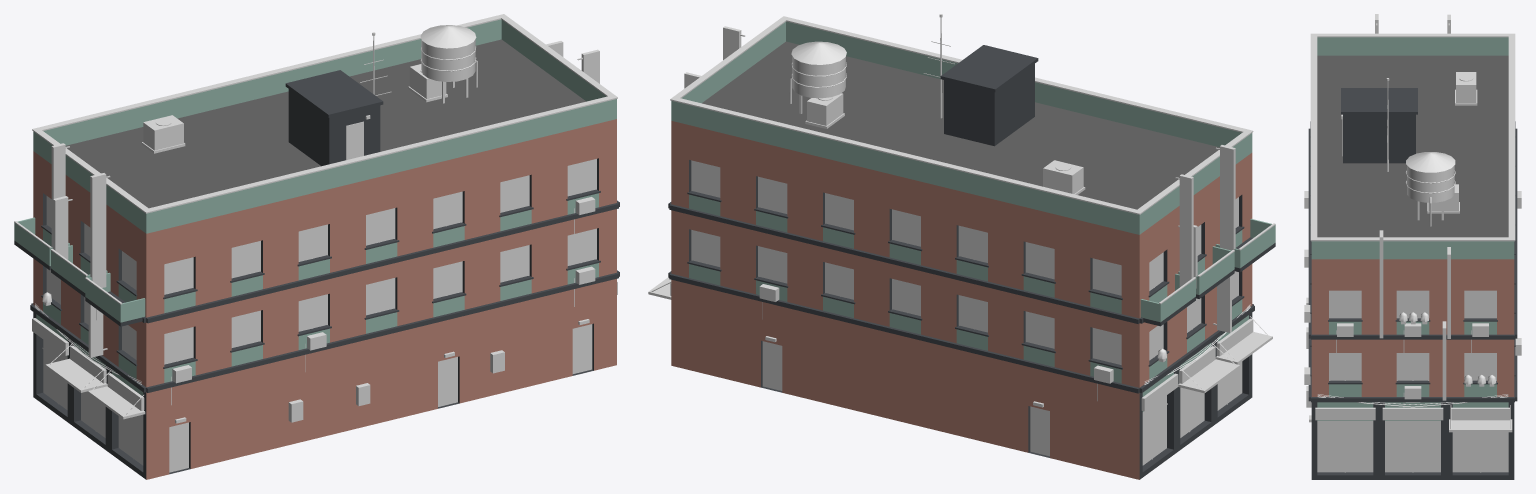
The model's file is Plaza_Block_16.fbx.
The picture shows the model from 3 angles, left to right: view 1: azimuth 30°, elevation 25°; view 2: azimuth 150°, elevation 25°; view 3: azimuth 270°, elevation 25°; orthographic projection. The views are drawn at different scales.
Parts seen in each view (by area): view 1: Plaza_Block_16_LOD0; view 2: Plaza_Block_16_LOD0; view 3: Plaza_Block_16_LOD0.
Boxes of the visible parts, x1,y1,x2,y2 form: Plaza_Block_16_LOD0: (14, 14, 619, 479); Plaza_Block_16_LOD0: (648, 14, 1275, 479); Plaza_Block_16_LOD0: (1304, 14, 1521, 479).
Size of what is drawn, in the model's own units: 26.6 by 17.07 by 10.73.
